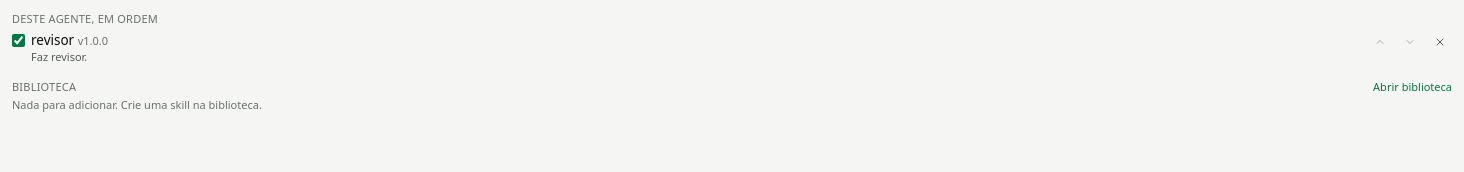
Test: aba Skills › se o core recusar, volta ao que estava
This screenshot has width=1464, height=172.
Click the button named "Remover revisor" at (1440, 42), box [1428,30,1452,54]
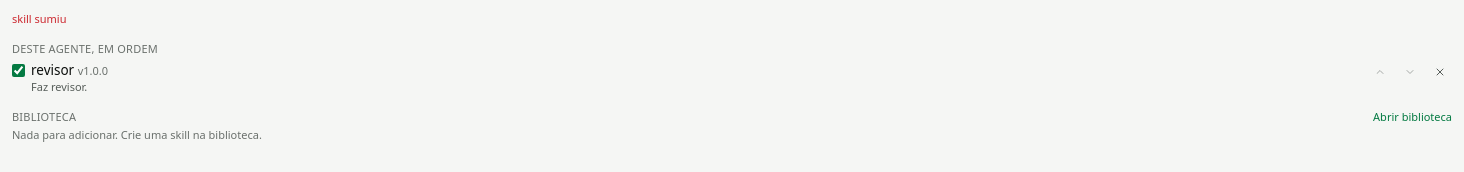
Expected: the button named "Remover revisor" is shown, [1428,60,1452,84]
Now the message "skill sumiu" is shown, box [12,11,66,26]
